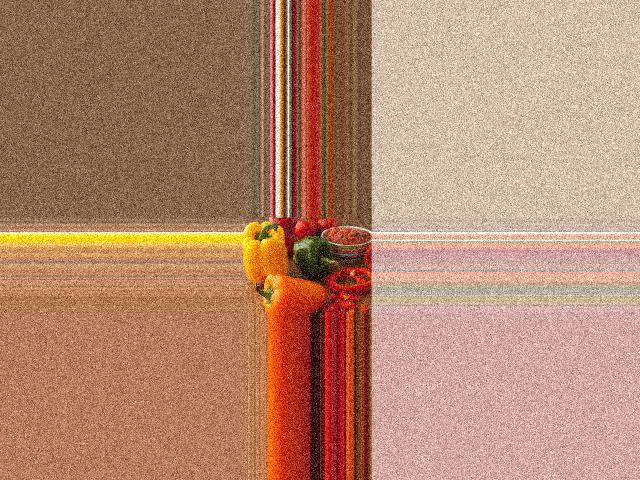bell_pepper: (243, 222, 289, 272)
